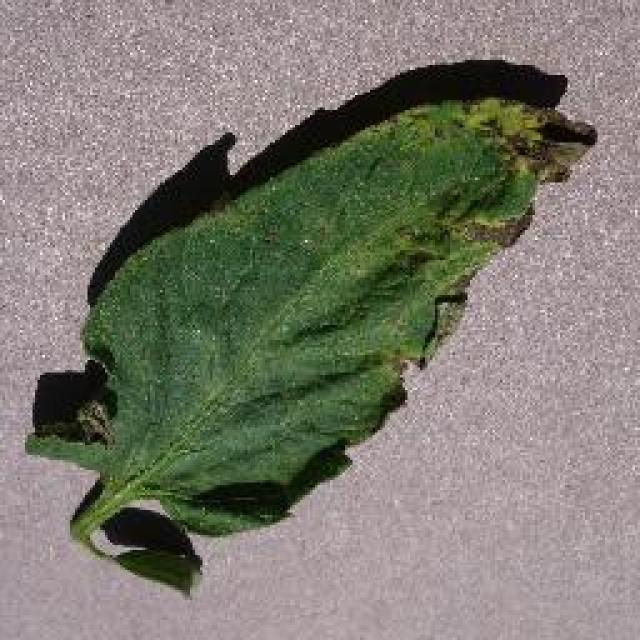Tomato___Septoria_leaf_spot: (25, 98, 592, 555), (118, 548, 200, 590)
